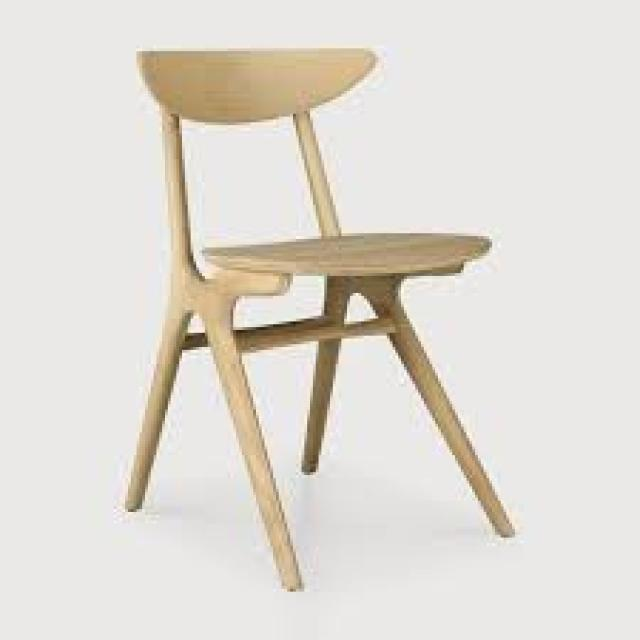chair: (68, 31, 550, 619)
